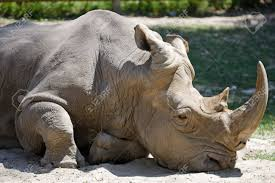Rhinoceros: (13, 7, 272, 177)
